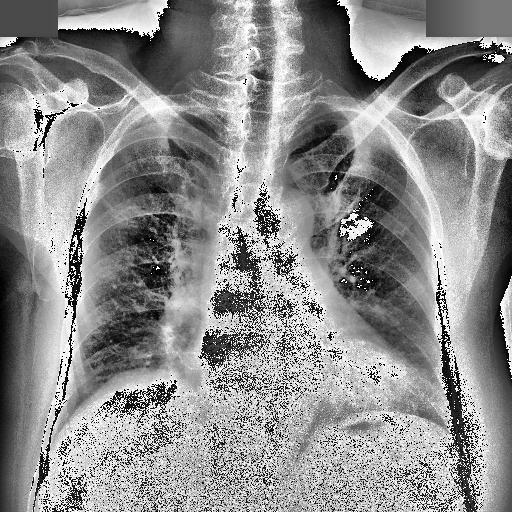0- Aortic enlargement: (260, 185, 313, 256), (254, 184, 314, 244), (268, 191, 311, 239)
11- Pleural thickening: (292, 118, 314, 139)
13- Pulmonary fibrosis: (94, 181, 138, 225)
3- Cardiomegaly: (184, 327, 432, 414), (178, 335, 422, 420), (182, 340, 422, 408)
